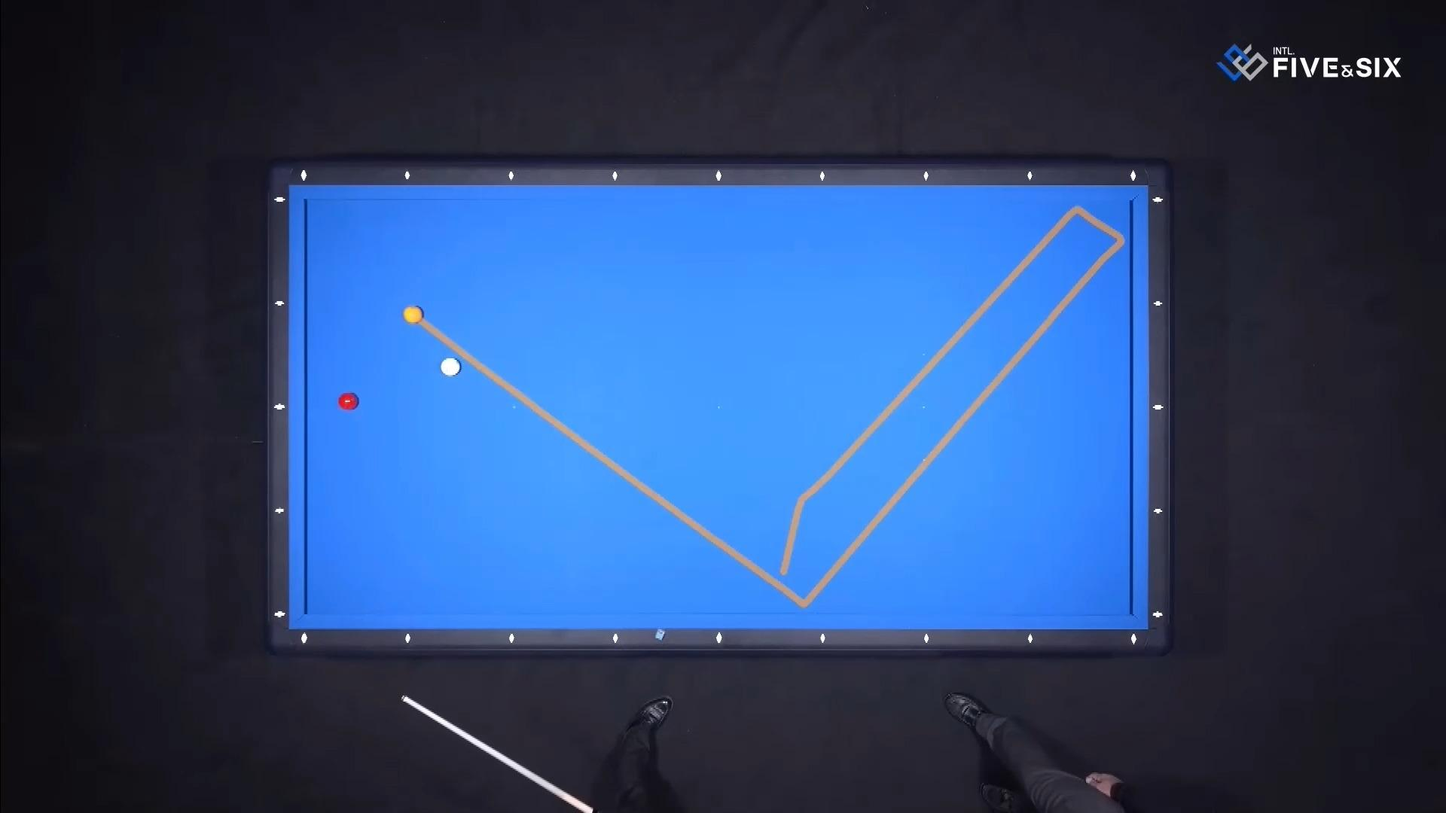Red: (335, 394, 359, 412)
White: (436, 357, 461, 377)
Yellow: (400, 307, 426, 327), (406, 304, 432, 323)
